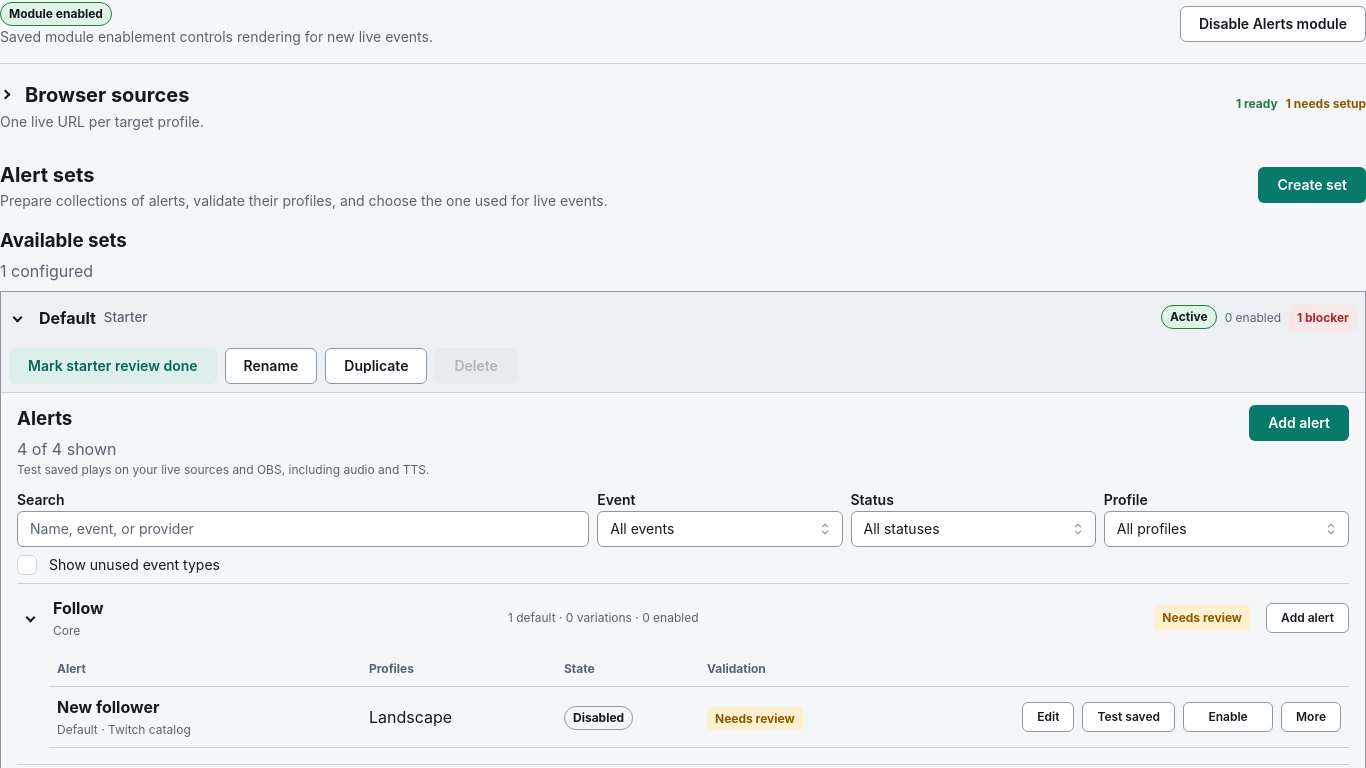
AlertSetsPage › shows explicit alert module enablement and confirms disabling it
Expected: the text "Module enabled" is shown, [0,2,112,26]
What coordinates should you click on to do the following:
click the button "Disable Alerts module"
I would click on:
 (1273, 24)
Its box is [1180,6,1365,42].
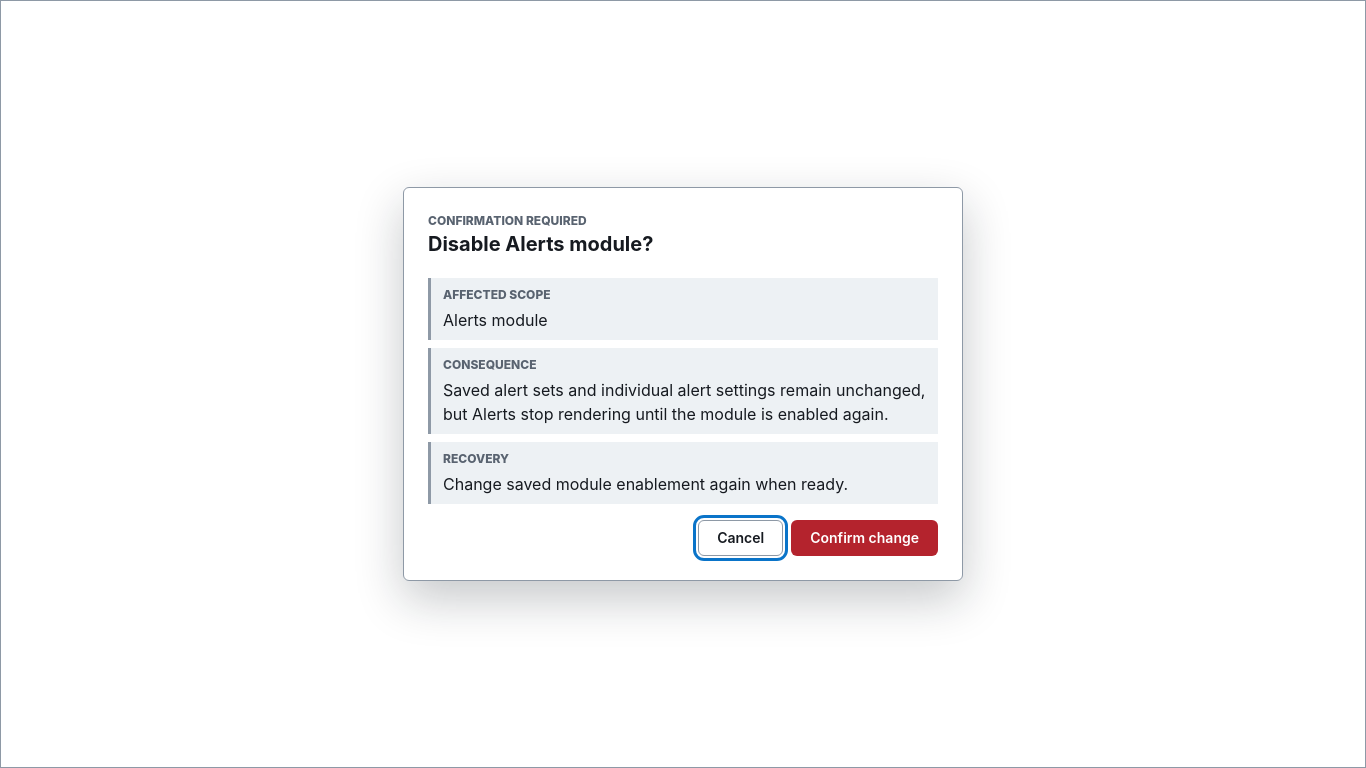
What coordinates should you click on to do the following:
click the button "Confirm change"
I would click on:
 (865, 538)
Its box is [791,520,938,556].
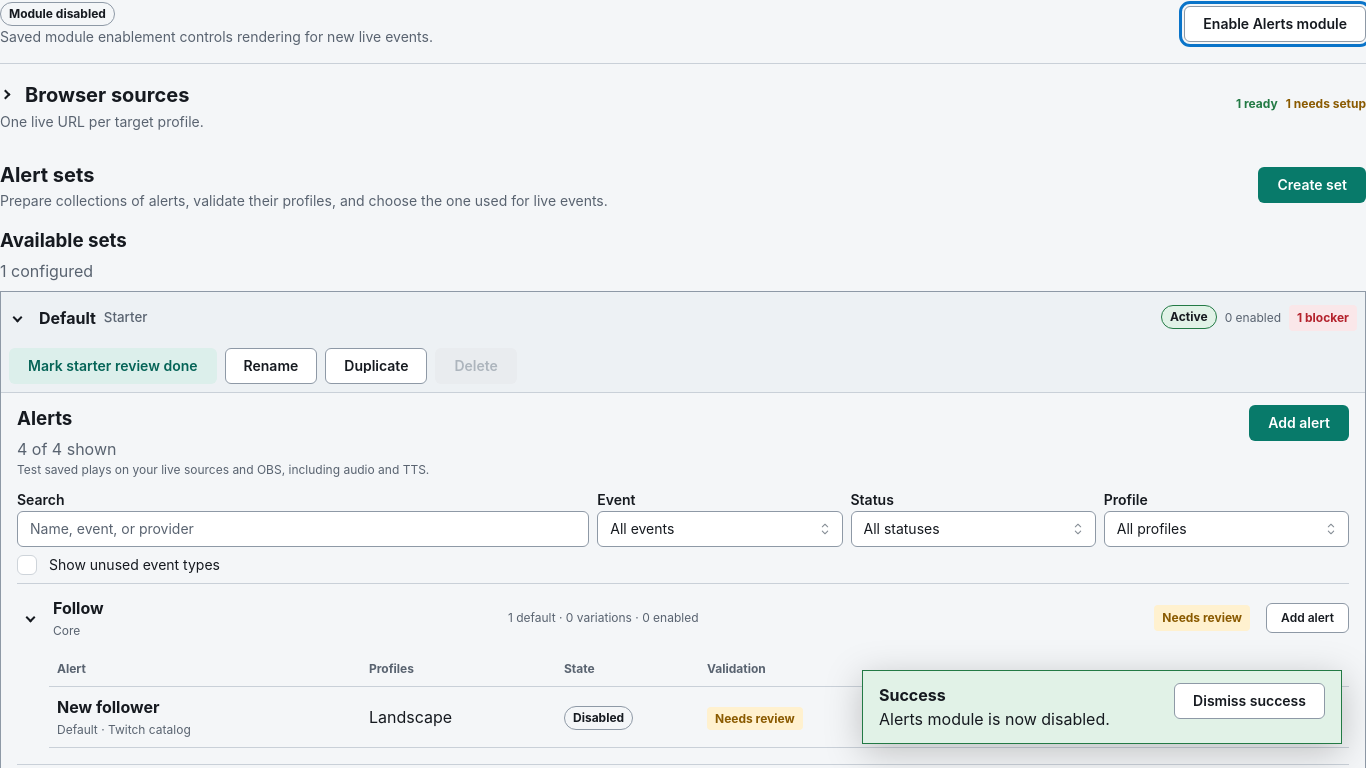
Expected: the text "Module disabled" is shown, [0,2,115,26]
Expected: the button "Enable Alerts module" is shown, [1184,6,1365,42]
